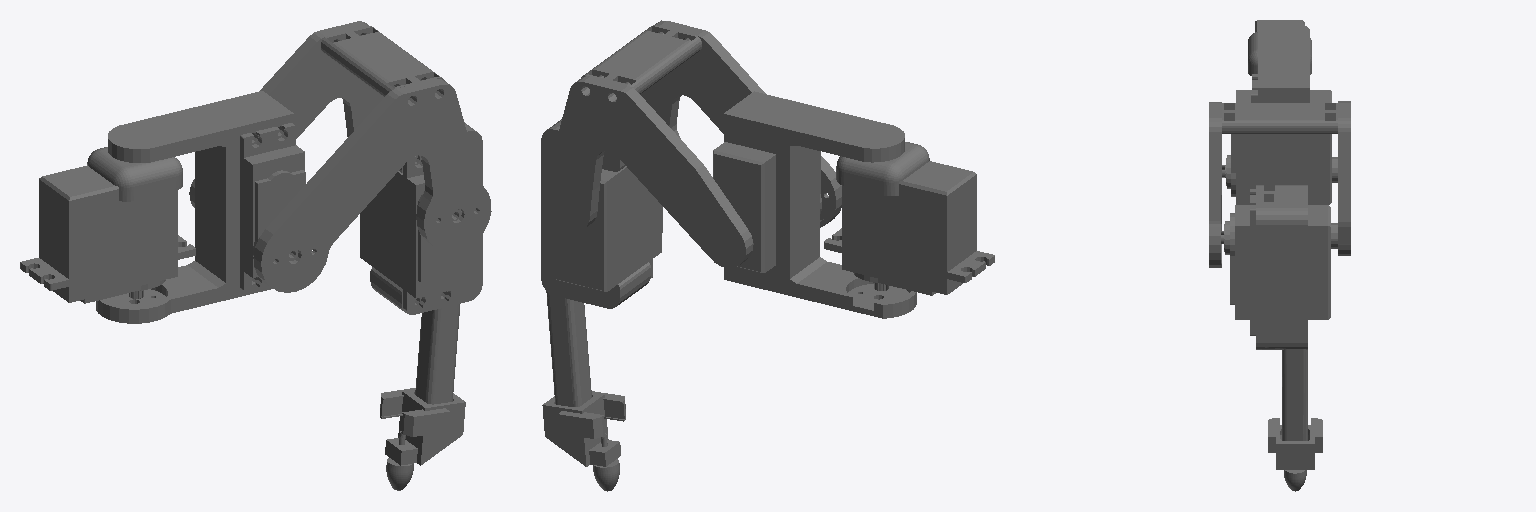
The robot description file, URDF, robot "hexapod_Sim":
<?xml version="1.0" encoding="utf-8"?>
<robot name="hexapod_Sim">
 <!--> ..................................................Material .......................................... -->
  <material name="white">
    <color rgba=" 0.5 0.5 0.5 1.0"/>
  </material>
  <!-- .........................................Links..............................................................-->
  <link name="base_link">

    <visual>
      <origin xyz="-0.19 0 0" rpy="0 0 0" />

      <geometry>

        <mesh filename="package://hexapod_Sim/CoxaServo.STL" scale="  5 5 5" />

      </geometry>

      <material name="white"/>

    </visual>
  </link>

  <link name="coxa">
    <visual>

      <origin xyz="0.28 0.115 0" rpy="0 0 3.14" />

      <geometry>
        <mesh filename="package://hexapod_Sim/CoxaAssm.STL" scale="  5 5 5" />
      </geometry>

      <material name="white"/>

    </visual>
  </link>



  <link name="femur">
    <visual>
      <origin xyz="0.366 0.29 -0.06" rpy="0 0 3.14" />

      <geometry>
        <mesh filename="package://hexapod_Sim/Femur.STL" scale="  5 5 5" />
      </geometry>

      <material name="white"/>
    </visual>
  </link>

  <link name="tibia">
    <visual>
      <origin xyz="0 0.25 -0.5525" rpy="0 0 3.14" />

      <geometry>
        <mesh
          filename="package://hexapod_Sim/Tibia.STL" scale="  5 5 5" />
      </geometry>

      <material name="white"/>
    </visual>
  </link>

  <!-- ......................................................................Joints........................................................-->


  <joint name="coxa_joint" type="revolute">
    <parent link="base_link"/>
    <child link="coxa"/>
    <axis xyz="0 0 1"/>
    <limit lower="-1.57" upper="1.57" velocity="50.0" effort="1000.0"/>
    <origin xyz="0.0 0.0 -0.02" rpy="0 0 0"/>
  </joint>

  <joint name="femur_joint" type="revolute">:
    <parent link="coxa"/>
    <child link="femur"/>
    <axis xyz="0 1 0"/>
    <limit lower="1.57" upper="-1.57" velocity="50.0" effort="1000.0"/>
    <origin xyz="0.213 -0.15 0.095" rpy="0 0 0"/>
  </joint>
  
  <joint name="tibia_joint" type="revolute">
    <parent link="femur"/>
    <child link="tibia"/>
    <axis xyz="0 1 0"/>
    <limit lower="1.57" upper="-1.57" velocity="50.0" effort="1000.0"/>
    <origin xyz="0.3 0 0" rpy="0 0 0"/>
  </joint>
  
  
</robot>

--- Render facts (derived) ---
Views: 3 orthographic renders of the robot side by side, from view 1: azimuth 30°, elevation 25°; view 2: azimuth 150°, elevation 25°; view 3: azimuth 270°, elevation 25°.
Robot: hexapod_Sim — 4 links, 3 joints (3 revolute); root link base_link; default pose: every joint at zero.
Links seen in each view (by area): view 1: femur, coxa, tibia, base_link; view 2: femur, coxa, tibia, base_link; view 3: tibia, coxa, femur, base_link.
Link boxes in pixels (<box>): femur: <box>189,21,491,292</box>; coxa: <box>96,91,305,323</box>; tibia: <box>360,122,482,490</box>; base_link: <box>20,147,195,303</box>; femur: <box>546,20,841,267</box>; coxa: <box>713,91,916,318</box>; tibia: <box>541,119,662,491</box>; base_link: <box>824,142,994,295</box>; tibia: <box>1221,185,1330,491</box>; coxa: <box>1222,21,1331,204</box>; femur: <box>1209,101,1350,267</box>; base_link: <box>1248,20,1311,75</box>.
Bounding box of the posed robot: 0.7996 × 0.2756 × 0.7851 m (x, y, z).
Meshes: 4 distinct files referenced, 4 mesh visuals loaded (4 binary STL).